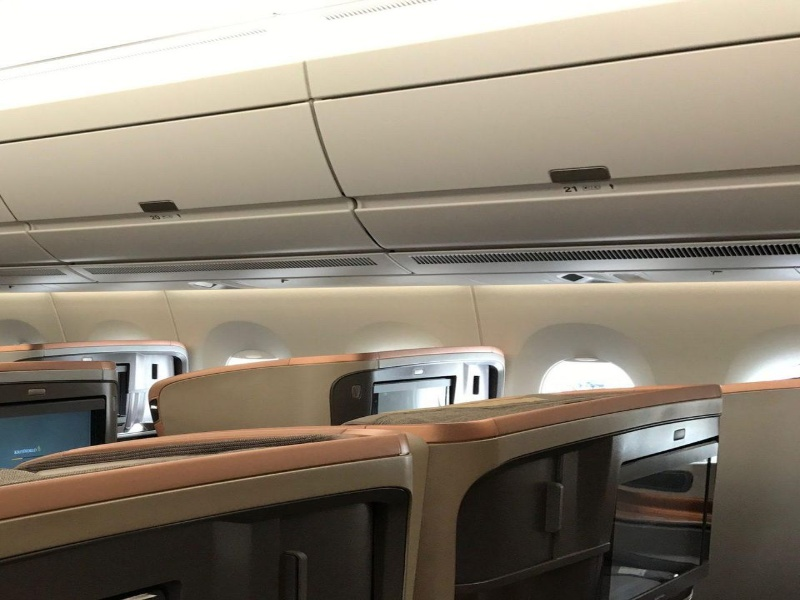close_bin: (302, 9, 800, 262), (3, 55, 387, 288)
